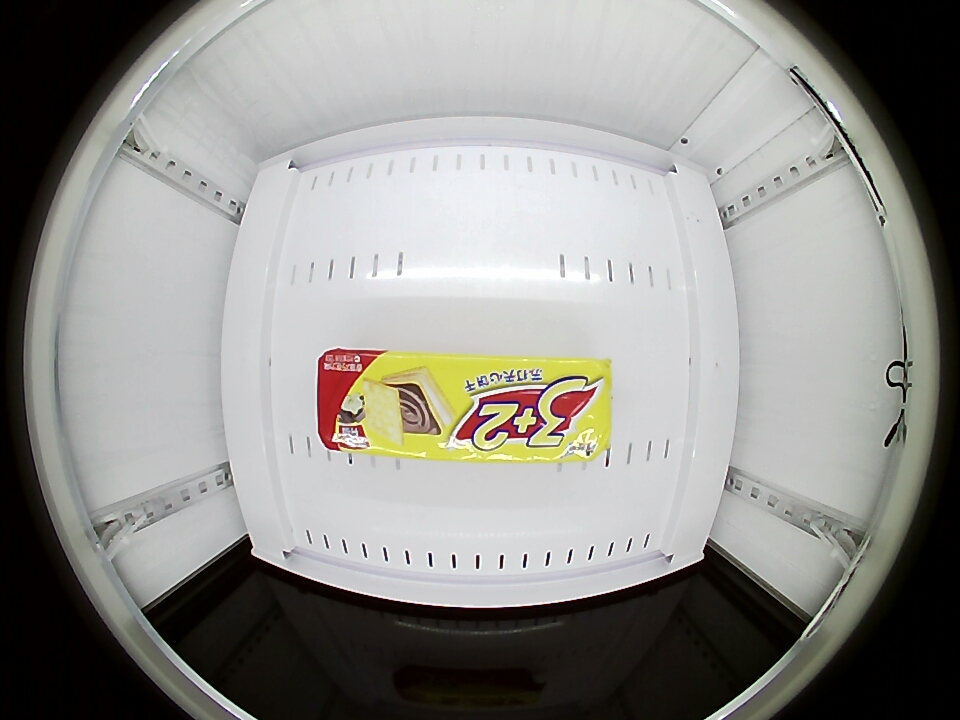3jia2: (315, 354, 614, 463)
